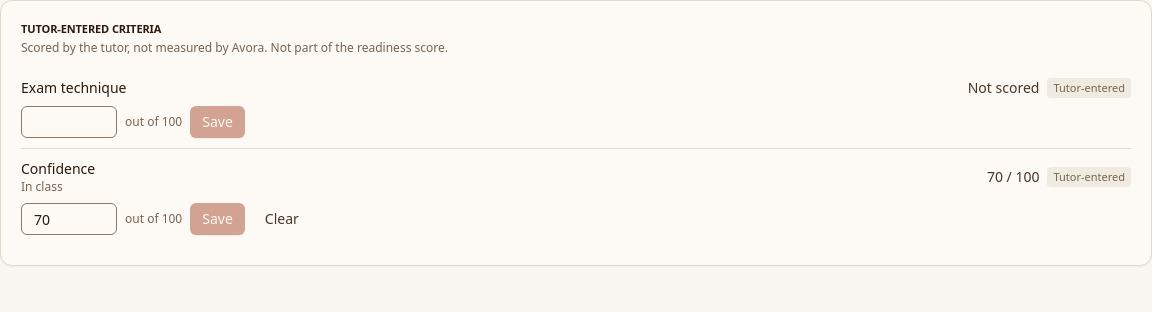
Scenario: the server's 409 is shown inline
Type "5" into the number field named "score for exam technique" below "Exam technique".
click(69, 122); type("5")  # box top-left (21, 106), bottom-right (117, 138)
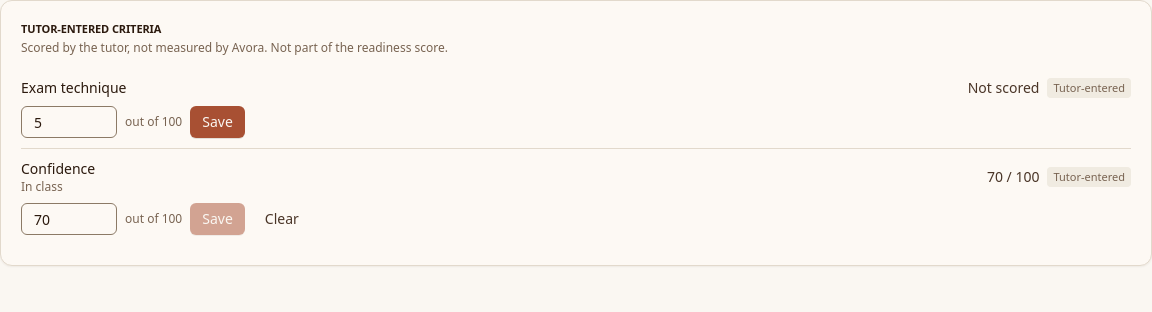
Click the button with aria-label "save score for exam technique".
click(218, 122)  # box top-left (190, 106), bottom-right (245, 138)
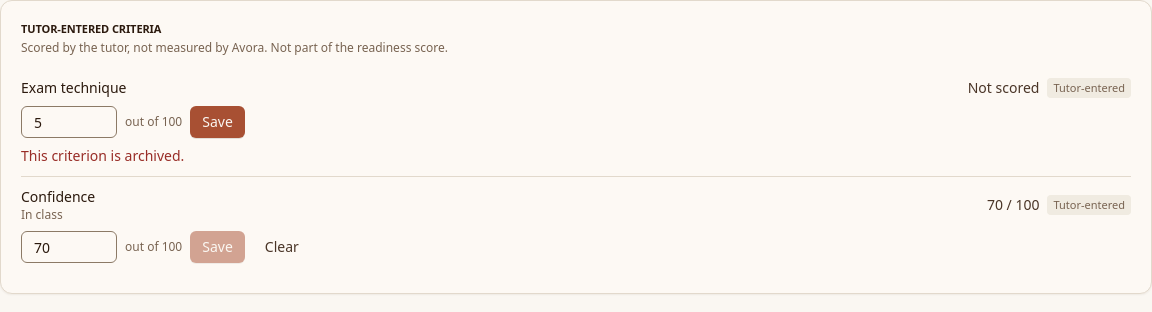
Expected: the message shows "archived", top-left (21, 146), bottom-right (184, 165)
